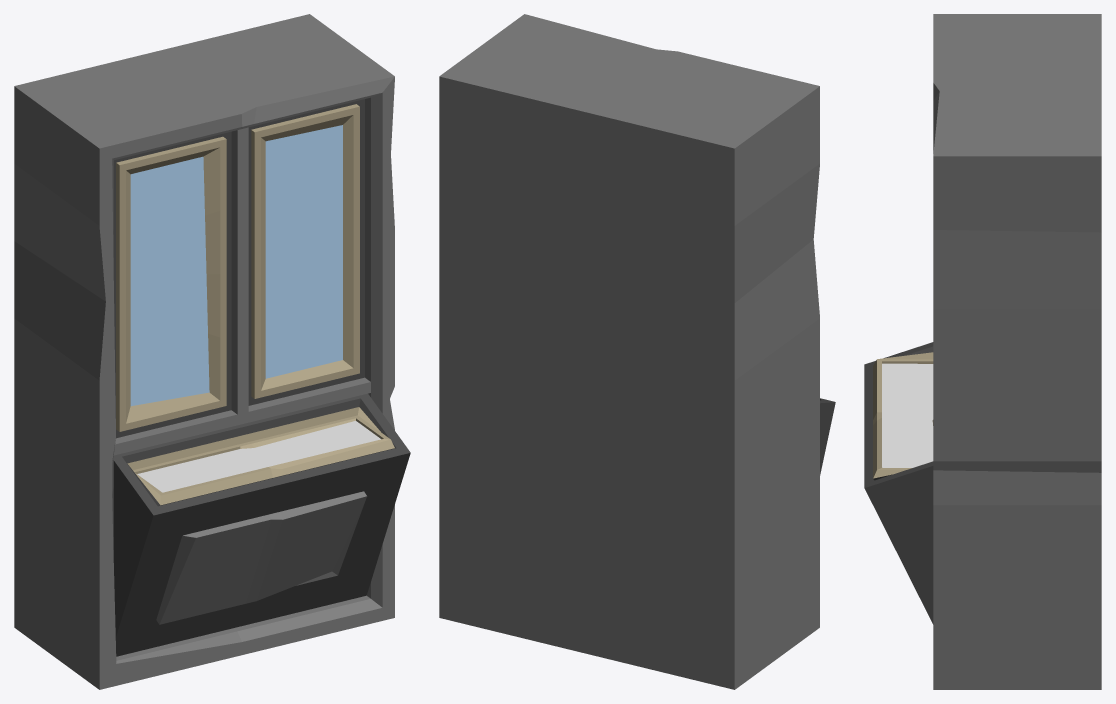
File: GunResearcher.fbx
The picture shows the model from 3 angles, left to right: view 1: azimuth 30°, elevation 25°; view 2: azimuth 150°, elevation 25°; view 3: azimuth 270°, elevation 25°; orthographic projection.
Parts seen in each view (by area): view 1: Cube; view 2: Cube; view 3: Cube.
Boxes of the visible parts, x1=… form: Cube: x1=14, y1=14, x2=410, y2=689; Cube: x1=439, y1=14, x2=835, y2=689; Cube: x1=864, y1=14, x2=1101, y2=689.
Bounding box in the file's own units: 400 × 700 × 282.
